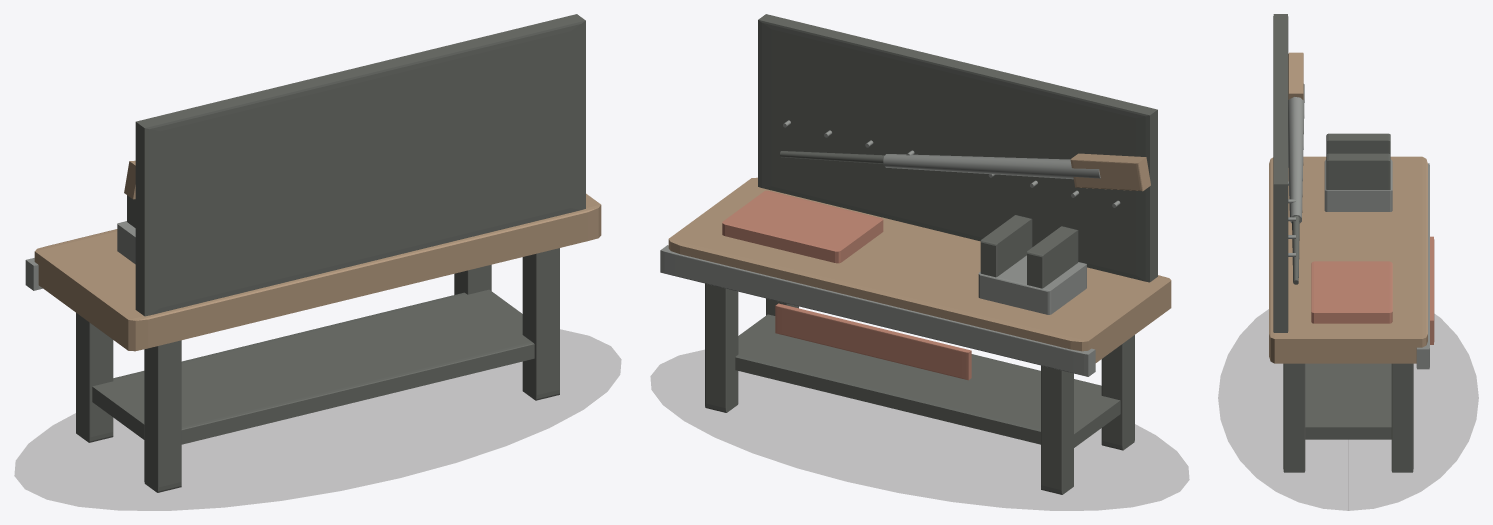
Rendered from craft_station_weapon.glb.
The picture shows the model from 3 angles, left to right: view 1: azimuth 30°, elevation 25°; view 2: azimuth 150°, elevation 25°; view 3: azimuth 270°, elevation 25°; orthographic projection. The views are drawn at different scales.
Visible parts, largest first — view 1: weapon_pegboard, painted_contact_shadow, weapon_bench_station_lower_shelf, weapon_bench_station_worktop, weapon_bench_station_leg_-1_1, weapon_bench_station_leg_1_1, weapon_bench_station_leg_-1_-1, weapon_bench_station_leg_1_-1; view 2: weapon_pegboard, painted_contact_shadow, weapon_bench_station_worktop, weapon_bench_station_lower_shelf, weapon_bench_station_front_edge, weapon_parts_tray, weapon_bench_station_type_plate, weapon_bench_station_leg_1_-1, weapon_bench_station_leg_-1_-1, rifle_receiver, gunsmith_vise_base, weapon_bench_station_leg_-1_1 (+4 smaller); view 3: painted_contact_shadow, weapon_bench_station_worktop, weapon_bench_station_lower_shelf, weapon_parts_tray, weapon_pegboard, weapon_bench_station_leg_1_-1, weapon_bench_station_leg_1_1, gunsmith_vise_moving_jaw, rifle_receiver, gunsmith_vise_base, gunsmith_vise_fixed_jaw, rifle_stock (+3 smaller).
Part boxes in pixels (left/top/right/bottom): weapon_pegboard: left=135, top=14, right=585, bottom=316; painted_contact_shadow: left=14, top=329, right=621, bottom=510; weapon_bench_station_lower_shelf: left=92, top=289, right=534, bottom=444; weapon_bench_station_worktop: left=34, top=193, right=601, bottom=351; weapon_bench_station_leg_-1_1: left=144, top=340, right=181, bottom=492; weapon_bench_station_leg_1_1: left=522, top=248, right=559, bottom=400; weapon_bench_station_leg_-1_-1: left=76, top=313, right=113, bottom=442; weapon_bench_station_leg_1_-1: left=454, top=264, right=491, bottom=294; weapon_pegboard: left=758, top=14, right=1157, bottom=282; painted_contact_shadow: left=650, top=350, right=1189, bottom=510; weapon_bench_station_worktop: left=668, top=177, right=1171, bottom=362; weapon_bench_station_lower_shelf: left=735, top=314, right=1120, bottom=447; weapon_bench_station_front_edge: left=660, top=245, right=1095, bottom=376; weapon_parts_tray: left=722, top=190, right=883, bottom=263; weapon_bench_station_type_plate: left=775, top=303, right=971, bottom=380; weapon_bench_station_leg_1_-1: left=705, top=283, right=738, bottom=412; weapon_bench_station_leg_-1_-1: left=1041, top=365, right=1073, bottom=494; rifle_receiver: left=883, top=154, right=1100, bottom=179; gunsmith_vise_base: left=978, top=255, right=1086, bottom=314; weapon_bench_station_leg_-1_1: left=1101, top=335, right=1134, bottom=450; painted_contact_shadow: left=1218, top=309, right=1478, bottom=510; weapon_bench_station_worktop: left=1269, top=156, right=1427, bottom=363; weapon_bench_station_lower_shelf: left=1305, top=363, right=1391, bottom=439; weapon_parts_tray: left=1311, top=261, right=1392, bottom=323; weapon_pegboard: left=1273, top=14, right=1288, bottom=332; weapon_bench_station_leg_1_-1: left=1391, top=363, right=1413, bottom=472; weapon_bench_station_leg_1_1: left=1283, top=363, right=1305, bottom=472; gunsmith_vise_moving_jaw: left=1326, top=153, right=1390, bottom=189; rifle_receiver: left=1288, top=84, right=1304, bottom=223; gunsmith_vise_base: left=1324, top=159, right=1392, bottom=211; gunsmith_vise_fixed_jaw: left=1326, top=133, right=1390, bottom=154; rifle_stock: left=1288, top=52, right=1303, bottom=99.
Size of the model in its own units: 3.16 by 1.95 by 1.54.
